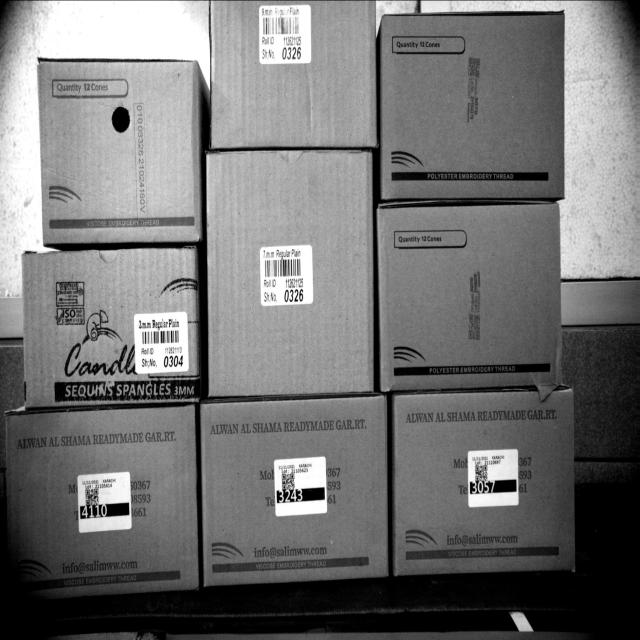cardboxes: (208, 152, 375, 396), (2, 412, 200, 590), (384, 9, 566, 201), (380, 202, 562, 390), (394, 391, 578, 574), (204, 397, 386, 577), (41, 58, 197, 246), (23, 246, 196, 409), (207, 0, 377, 150), (209, 0, 376, 147)
